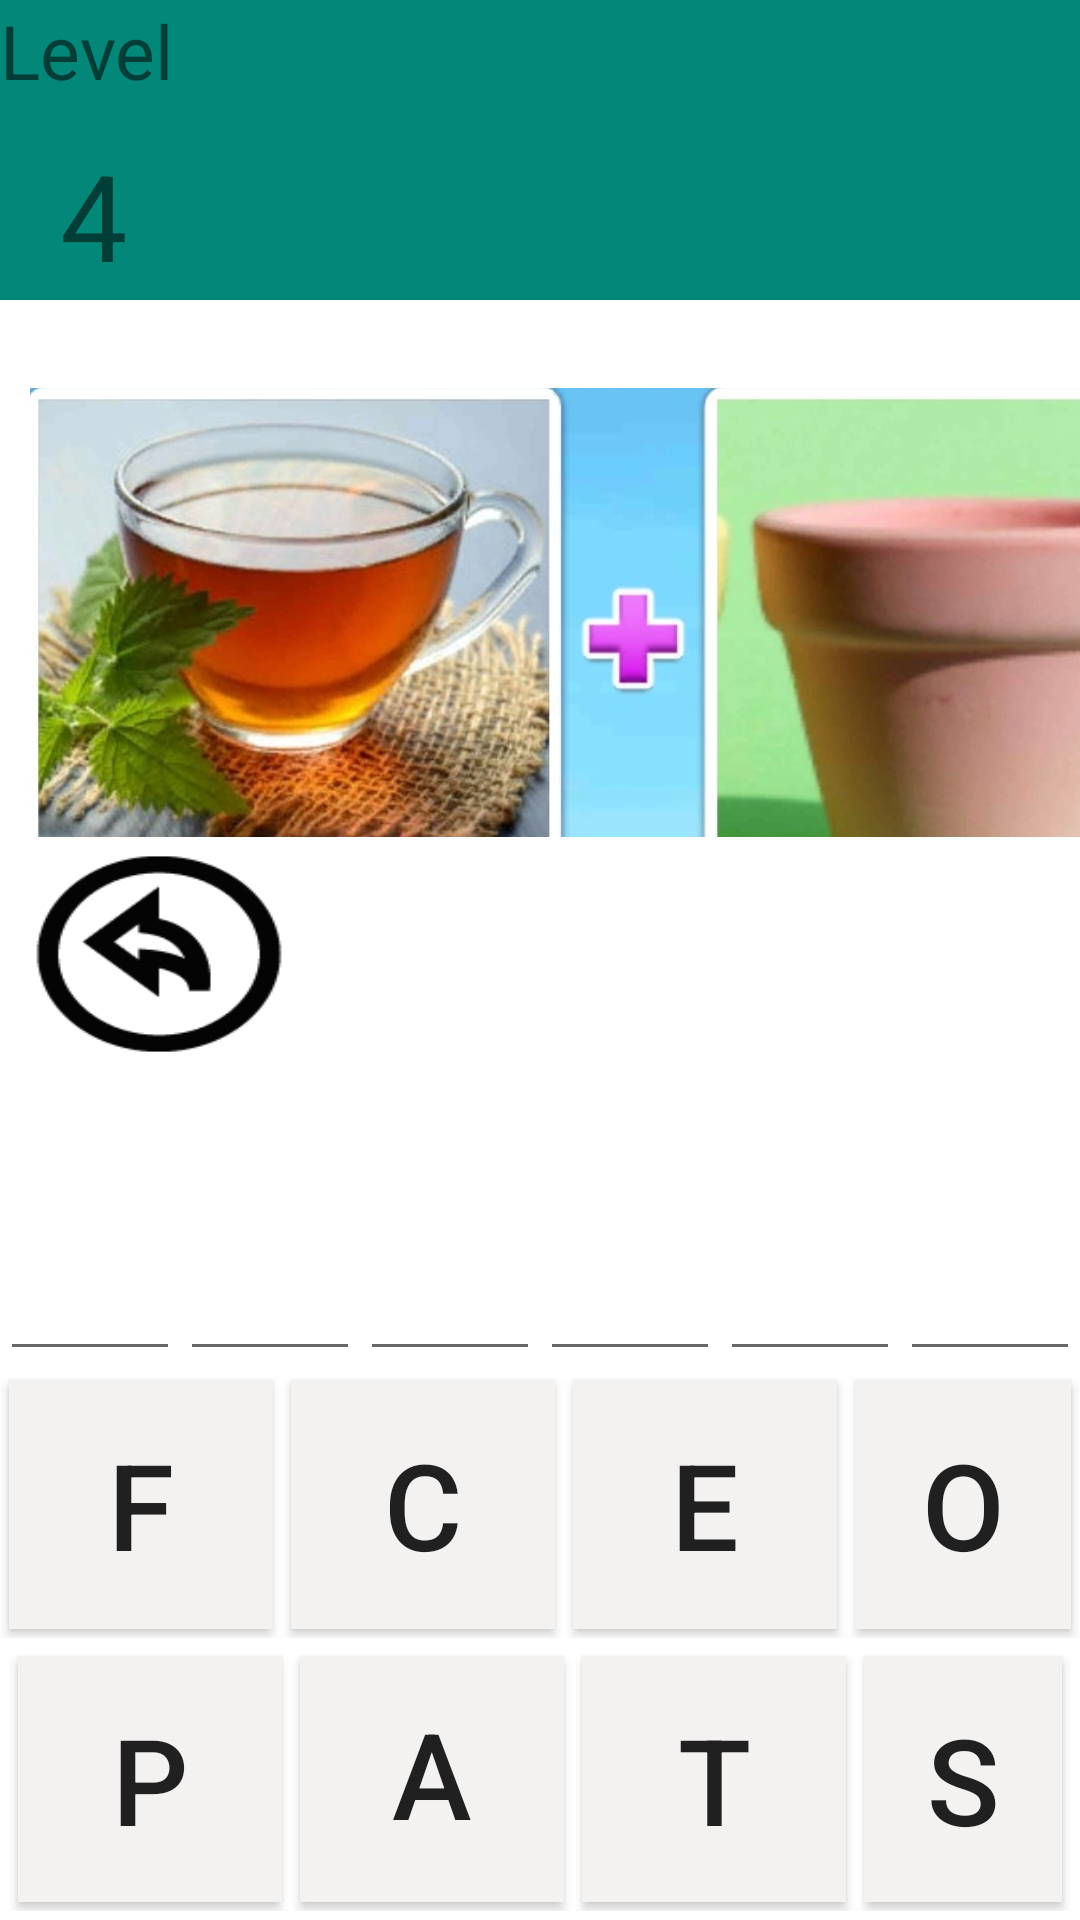

Icons on this 1080*1920 Android screen, each with the point to tap as (x,y):
reset: (159,954)
